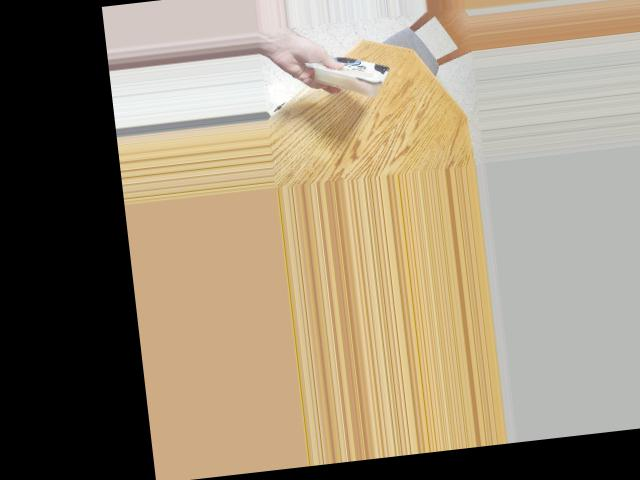cheese: (310, 37, 389, 106)
